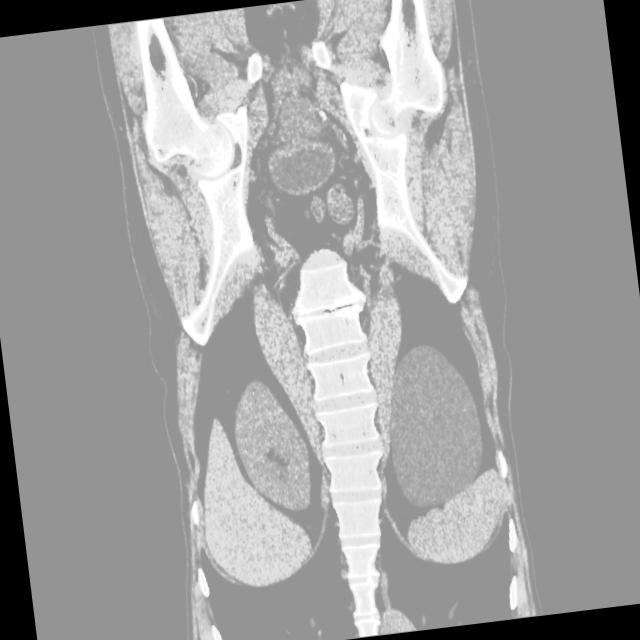cysts: (97, 0, 544, 640)
